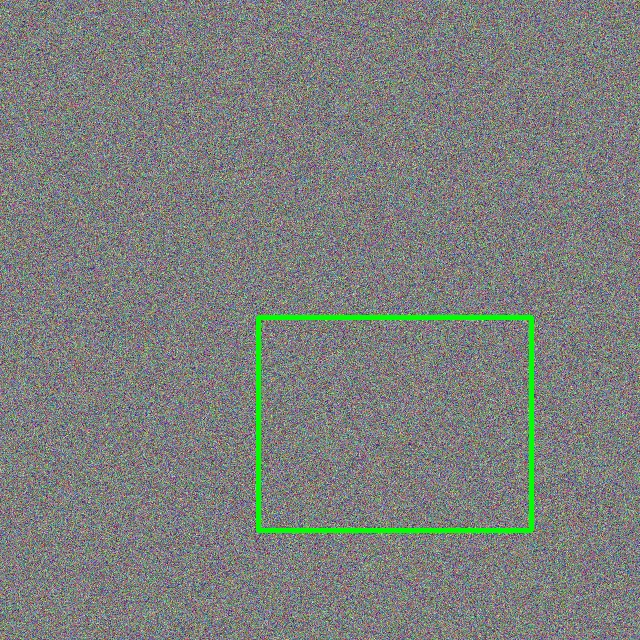base: (258, 317, 531, 530)
